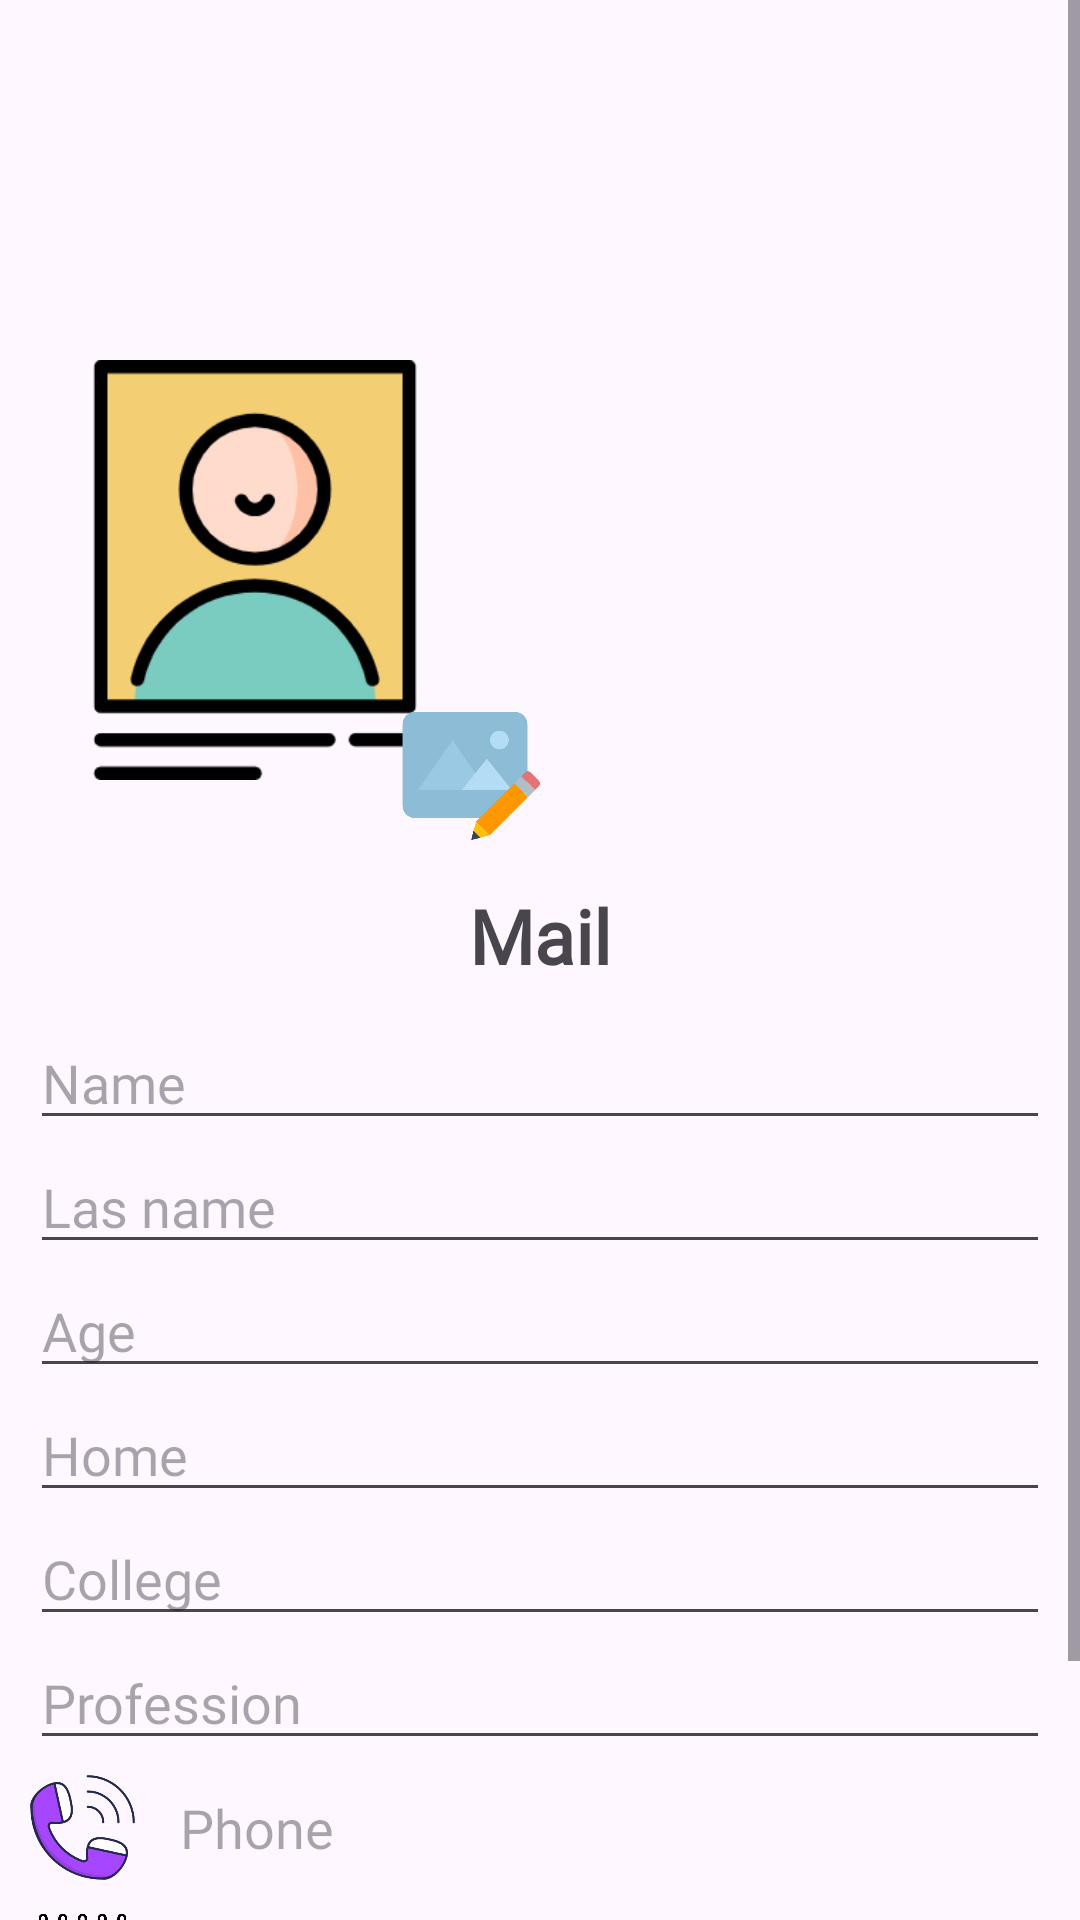

Icon click points for this 1080*1920 phone screenshot, format point (x, y):
call: point (82, 1827)
edit: point (465, 765)
